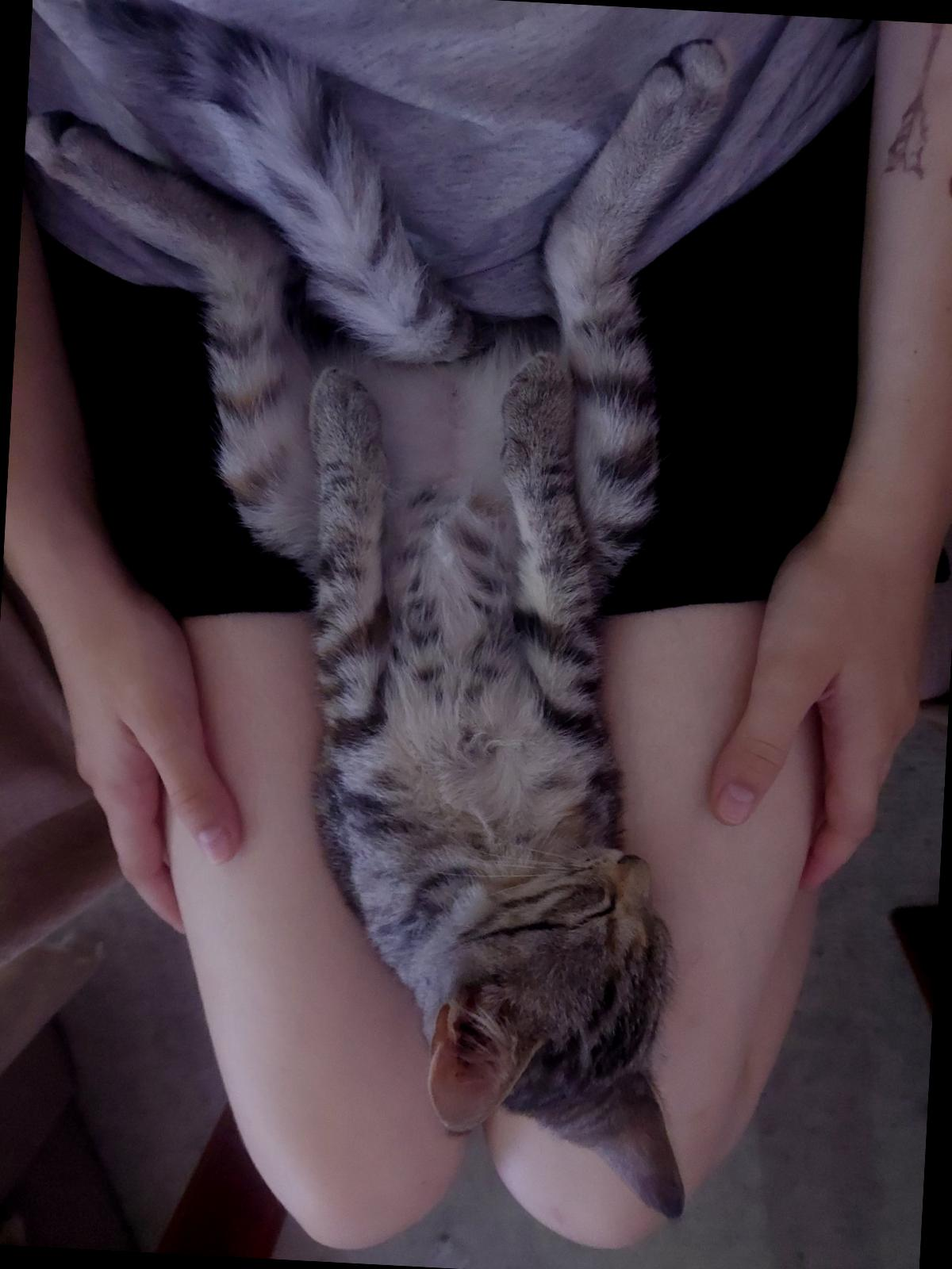macka: (0, 0, 746, 1223)
